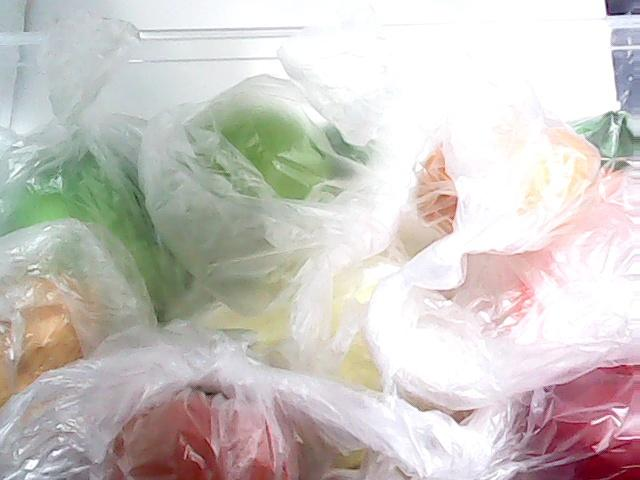apple: (150, 98, 330, 264), (512, 363, 640, 480)
cabbage: (0, 124, 204, 327)
carrot: (511, 106, 640, 338)
napa cabbage: (105, 244, 455, 424)
peach: (112, 384, 304, 480)
potato: (0, 270, 111, 432)
radish: (322, 110, 450, 266)
